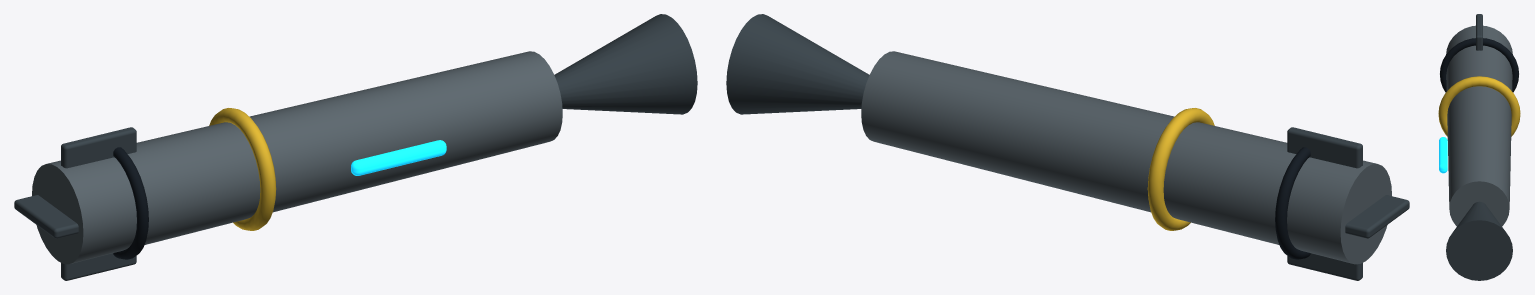
3 renders of one model, left to right at view 1: azimuth 30°, elevation 25°; view 2: azimuth 150°, elevation 25°; view 3: azimuth 270°, elevation 25°, orthographic. The views are drawn at different scales.
Bounding box in the file's own units: 5.42 × 1.1 × 0.93.
